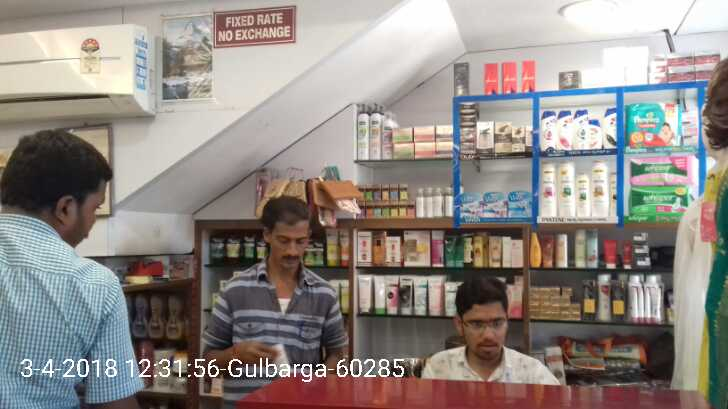venus: (508, 190, 532, 217), (483, 191, 506, 217), (459, 193, 481, 218)
